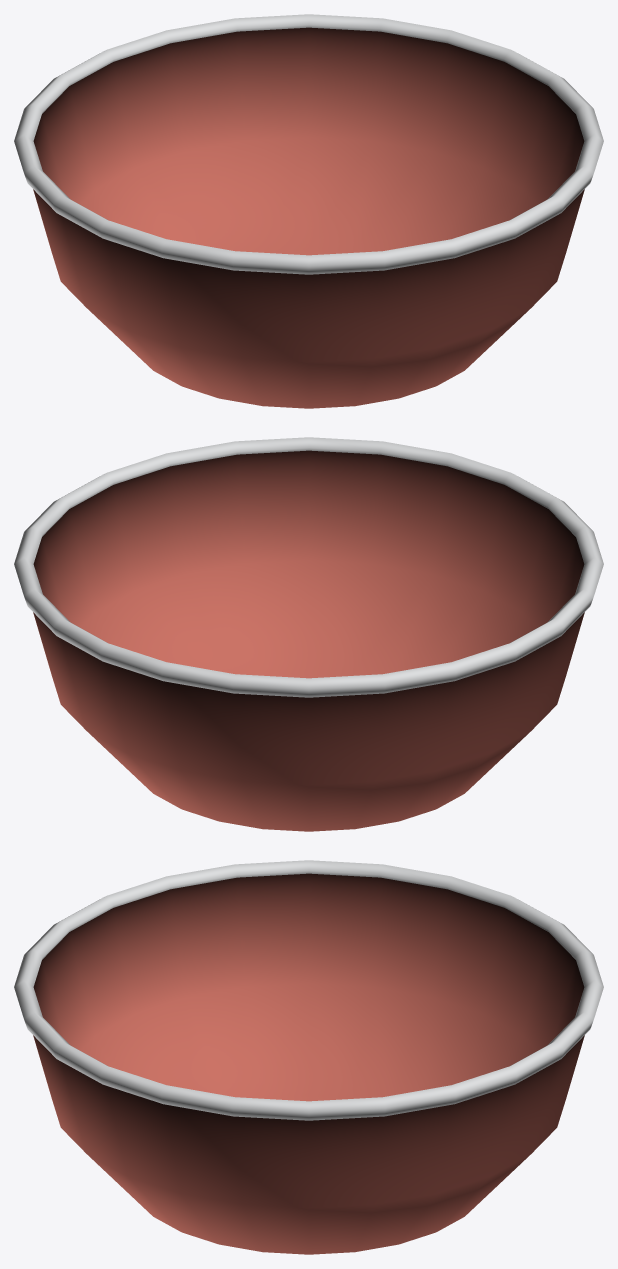
The model's file is cook_bowl.glb.
3 renders of one model, top to bottom at view 1: azimuth 30°, elevation 25°; view 2: azimuth 150°, elevation 25°; view 3: azimuth 270°, elevation 25°, orthographic.
Visible parts, largest first — view 1: PART; view 2: PART; view 3: PART.
Boxes of the visible parts, x1,y1,x2,y2 form: PART: (14,14,603,408); PART: (14,437,603,831); PART: (14,860,603,1254).
Size of the model in its own units: 0.2296 by 0.091 by 0.2296.
